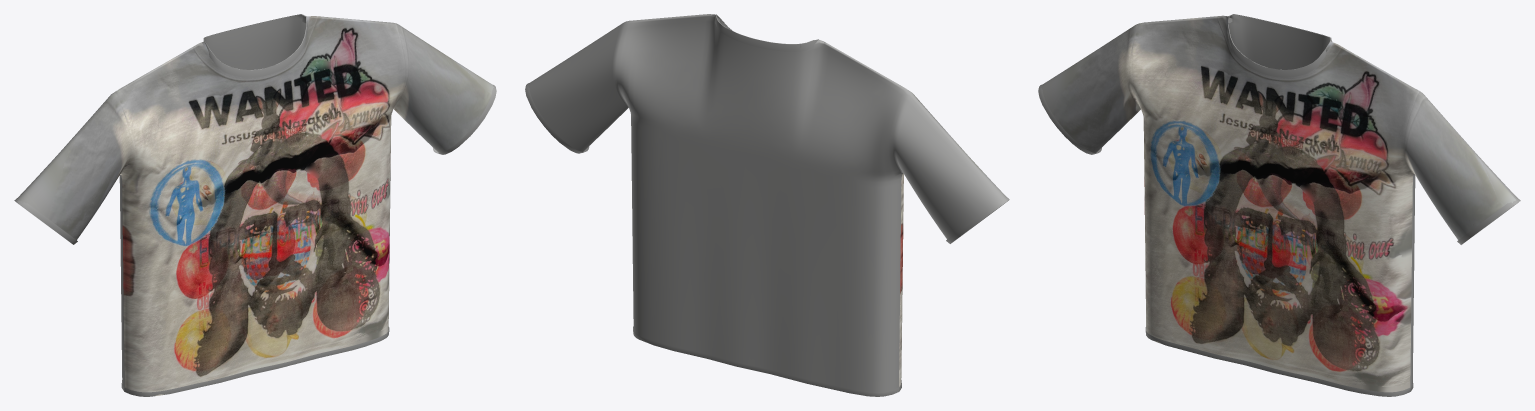
File: wanted-jesus-tee-tailored-v6.glb
The picture shows the model from 3 angles, left to right: view 1: azimuth 30°, elevation 25°; view 2: azimuth 150°, elevation 25°; view 3: azimuth 330°, elevation 25°; orthographic projection.
Parts seen in each view (by area): view 1: front cotton, Interior cotton, Bound collar and folded hems, back cotton; view 2: back cotton, Bound collar and folded hems, front cotton; view 3: front cotton, Interior cotton, Bound collar and folded hems, back cotton.
Boxes of the visible parts, box(x1,y1,x2,y2) form: front cotton: box(19, 16, 493, 396); Interior cotton: box(24, 14, 306, 243); Bound collar and folded hems: box(14, 14, 496, 396); back cotton: box(17, 91, 124, 386); back cotton: box(528, 14, 1005, 392); Bound collar and folded hems: box(525, 14, 1009, 396); front cotton: box(899, 90, 1006, 386); front cotton: box(1041, 15, 1515, 392); Interior cotton: box(1228, 14, 1517, 242); Bound collar and folded hems: box(1038, 14, 1520, 396); back cotton: box(1330, 39, 1517, 387).
Bounding box in the file's own units: 0.8822 × 0.5848 × 0.0953.
4 materials, 1 textured.
